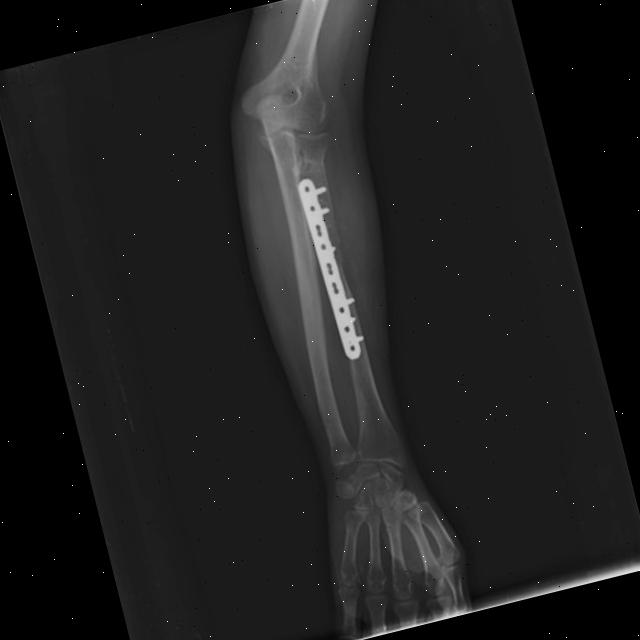fractured: (326, 228, 353, 297)
